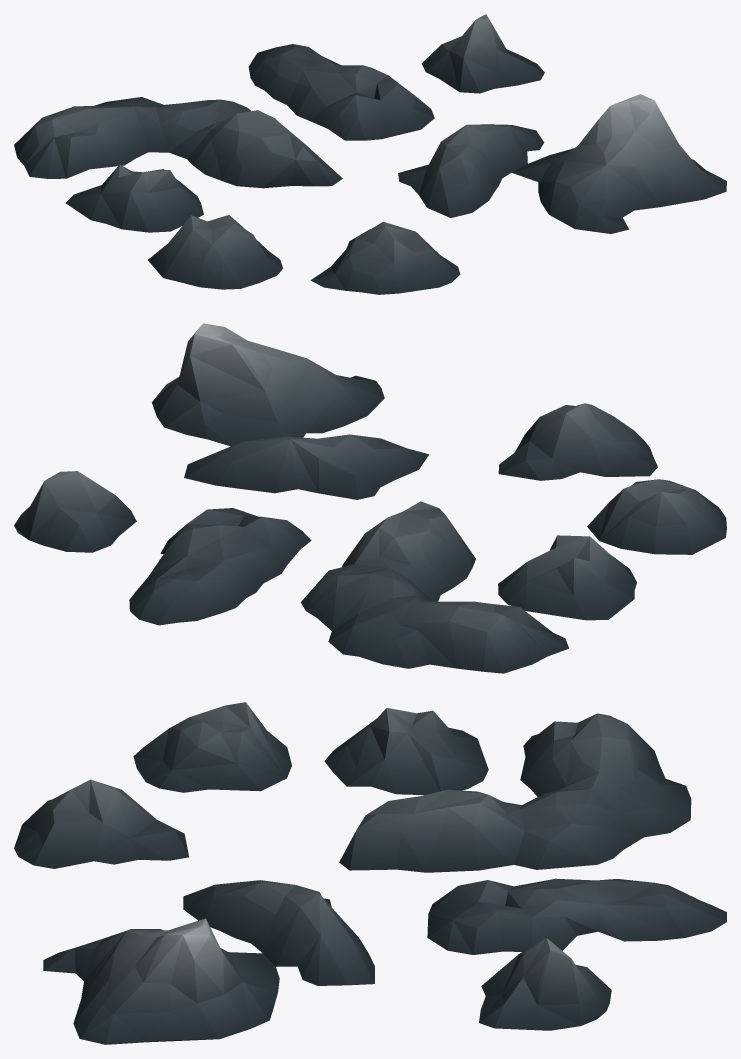
The model's file is small_islands.fbx.
The picture shows the model from 3 angles, top to bottom: view 1: azimuth 30°, elevation 25°; view 2: azimuth 150°, elevation 25°; view 3: azimuth 270°, elevation 25°; orthographic projection. The views are drawn at different scales.
Visible parts, largest first — view 1: islandSpread; view 2: islandSpread; view 3: islandSpread.
Boxes of the visible parts, bbox=[...] form: islandSpread: bbox=[14, 14, 726, 294]; islandSpread: bbox=[14, 323, 726, 673]; islandSpread: bbox=[14, 702, 726, 1044].
Size of what is drawn, in the model's own units: 20008 by 2529 by 18998.
